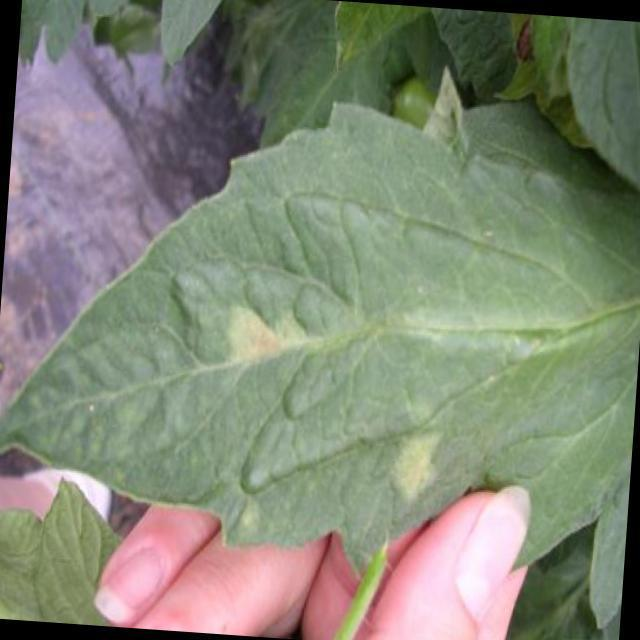Mosaic Virus: (206, 294, 447, 547)
